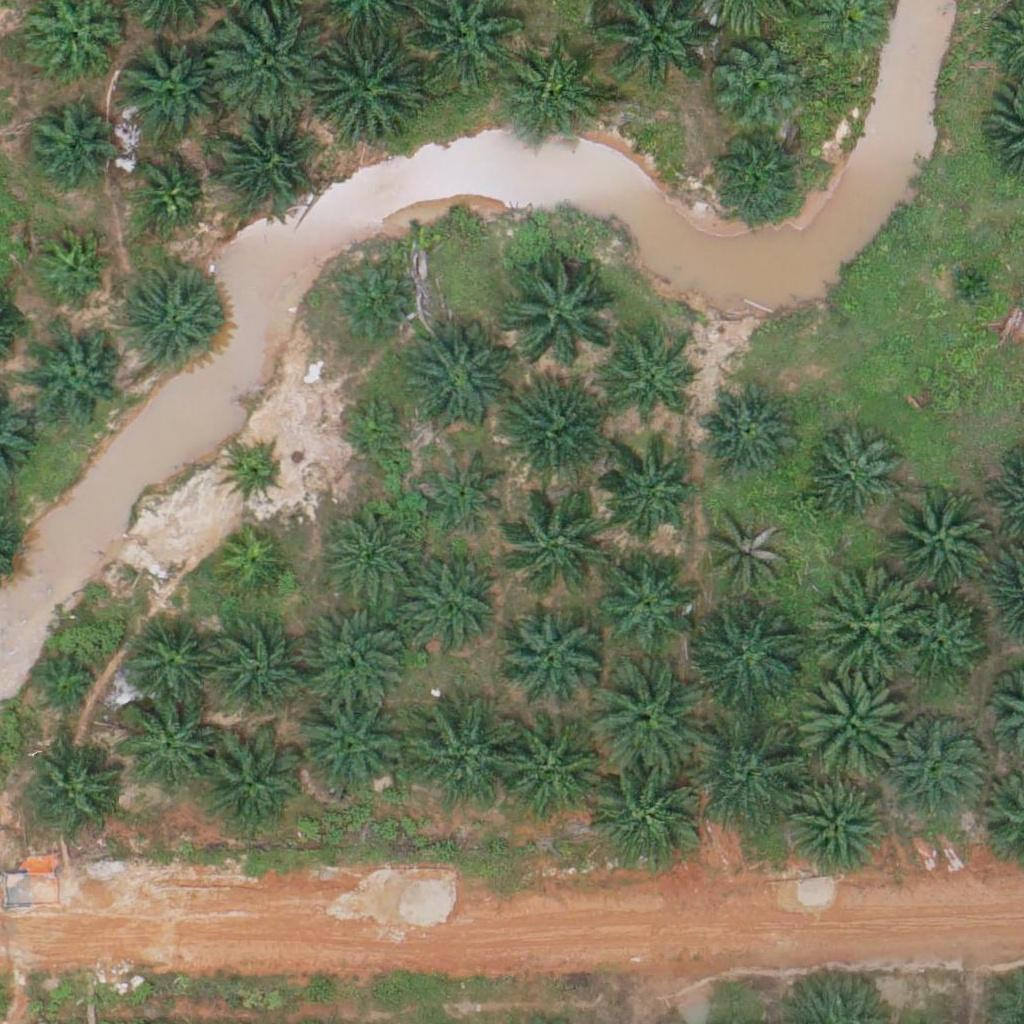Kelapa_Sawit: (307, 33, 420, 147), (591, 761, 704, 874), (504, 251, 617, 364), (398, 324, 511, 437), (296, 602, 409, 715), (293, 690, 406, 803), (195, 729, 308, 842), (503, 482, 615, 596), (401, 699, 513, 813), (884, 484, 996, 597), (807, 567, 919, 680), (794, 665, 906, 778), (696, 720, 808, 833), (692, 599, 804, 712), (590, 661, 702, 774), (491, 718, 603, 831), (494, 379, 606, 492), (215, 8, 327, 121), (886, 714, 986, 815), (800, 425, 900, 526), (596, 445, 696, 546), (498, 607, 598, 708), (115, 38, 215, 139), (398, 558, 498, 659), (206, 624, 306, 725), (121, 615, 221, 716), (23, 741, 123, 842), (785, 777, 885, 877), (706, 127, 806, 227), (697, 380, 797, 480), (596, 549, 696, 649), (503, 48, 603, 148), (213, 113, 313, 213), (123, 273, 223, 373), (321, 506, 421, 606), (116, 695, 216, 795), (29, 326, 129, 426), (896, 598, 984, 686), (710, 34, 798, 122), (421, 452, 509, 540), (326, 260, 414, 348), (23, 98, 111, 186), (706, 511, 793, 599), (608, 341, 695, 429), (35, 229, 110, 305), (130, 155, 205, 230), (338, 391, 413, 466), (214, 529, 289, 604), (29, 653, 104, 728), (223, 442, 286, 505), (943, 257, 993, 308)
